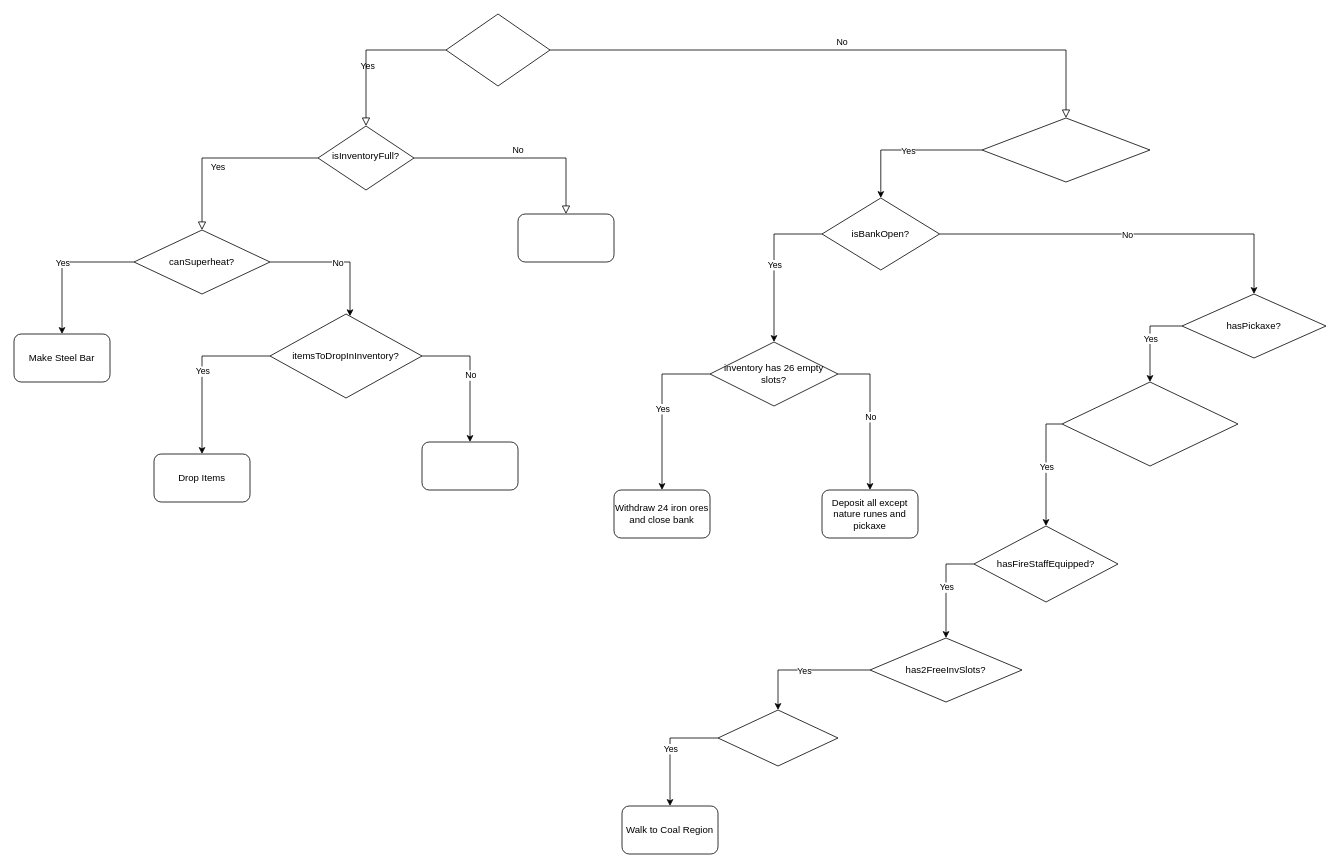
Image size: 1340x868. Some labels were removed from this diagram. Each missing label, with the centre of its shape:
"Find Coal Rock and Mine" goes at point 565,237.
"has24Iron?" goes at point 777,737.
"hasNatureRunes?" goes at point 1149,423.
"inCoalRegion?" goes at point 497,49.
"inDraynorBankRegion?" goes at point 1065,149.
"Walk to Bank" goes at point 469,465.
